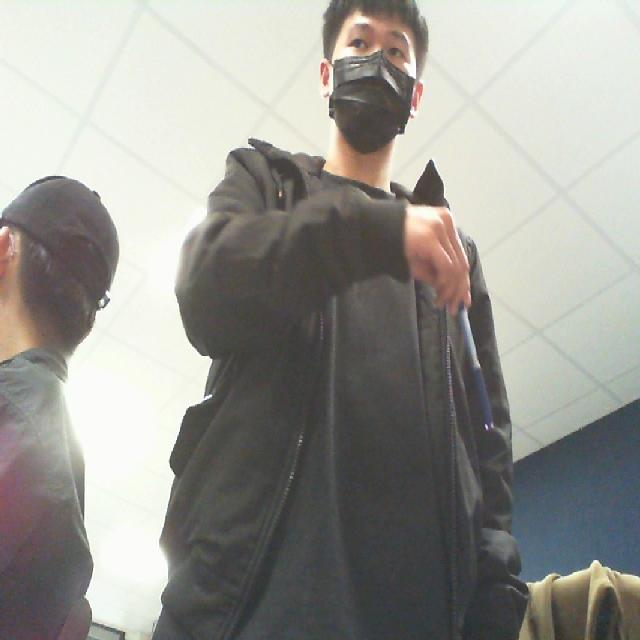Pen: (421, 256, 508, 448)
